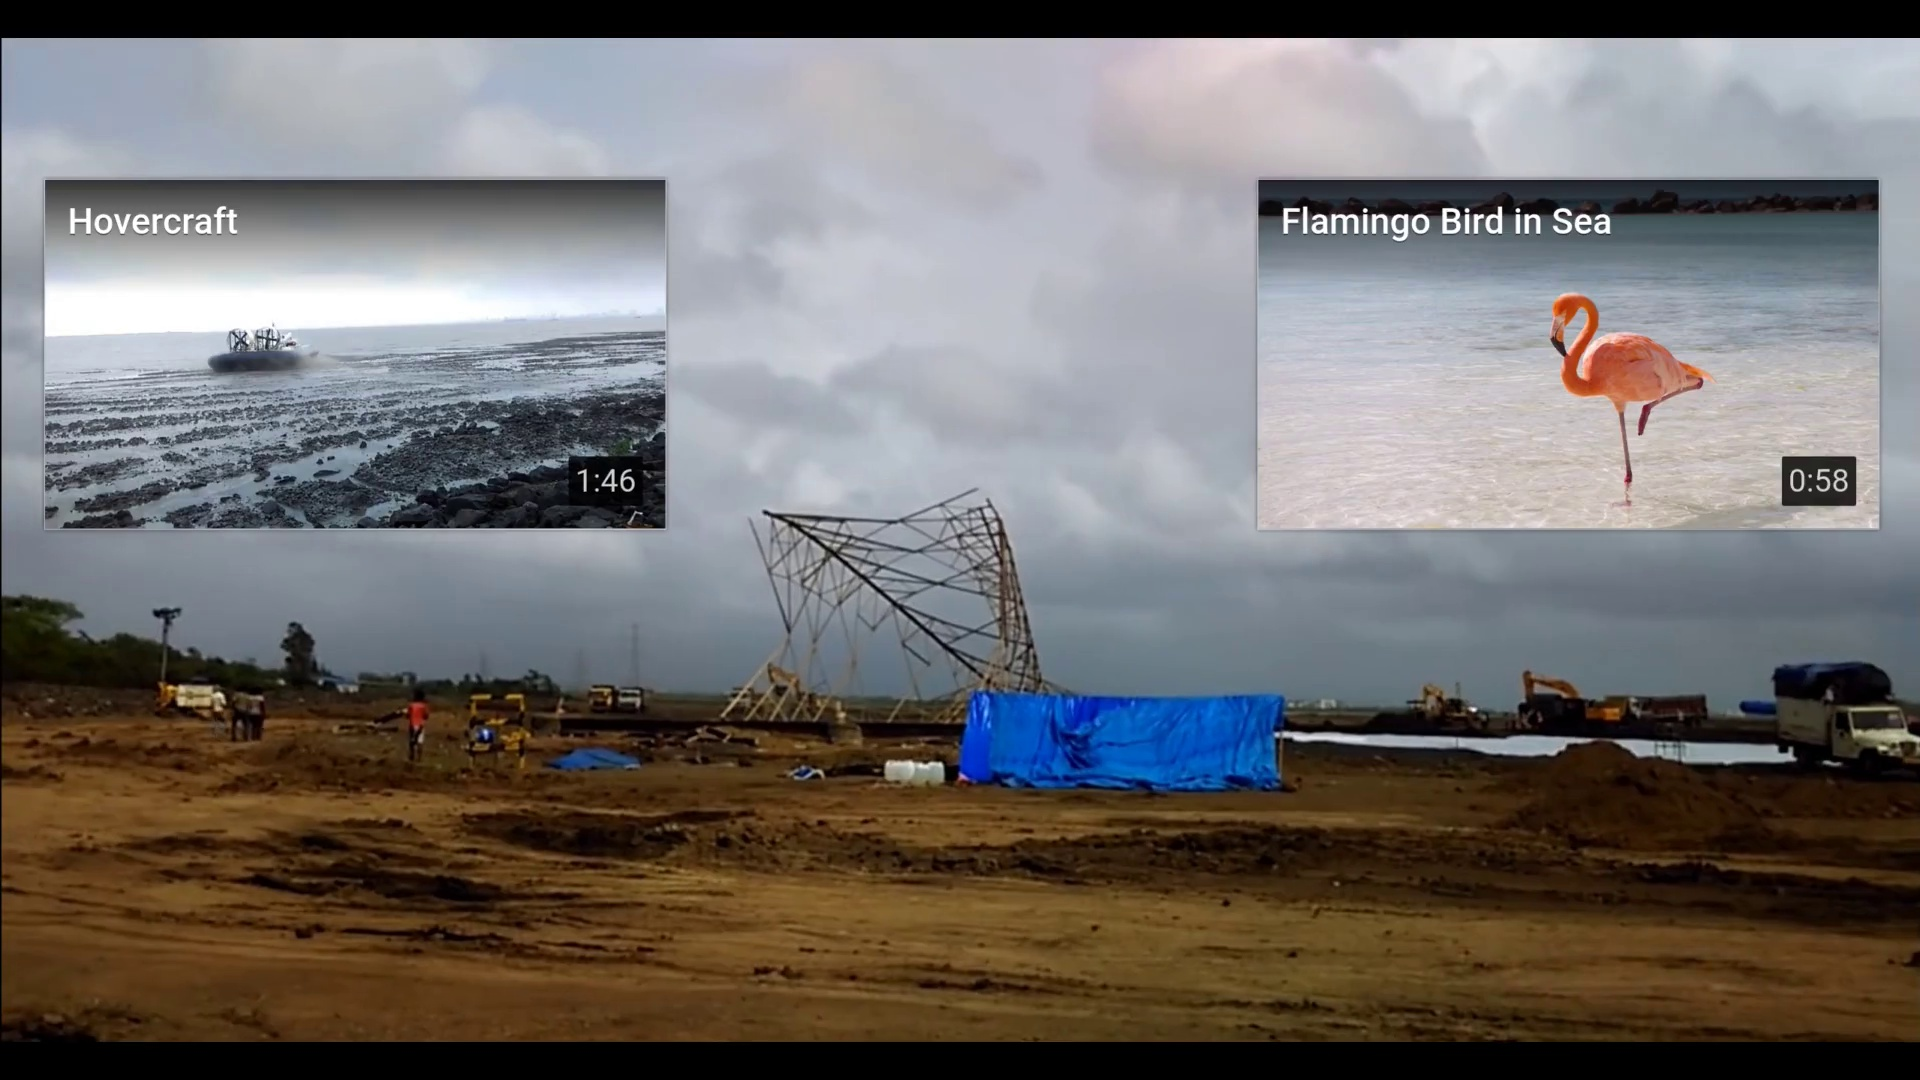tower_up: (708, 477, 1075, 735)
